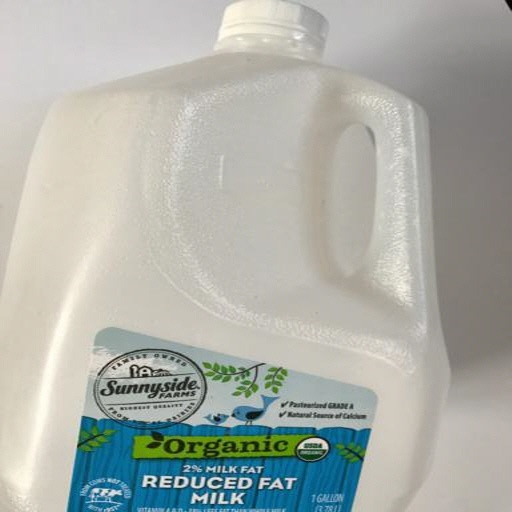Plastic_1: (4, 1, 450, 512)
